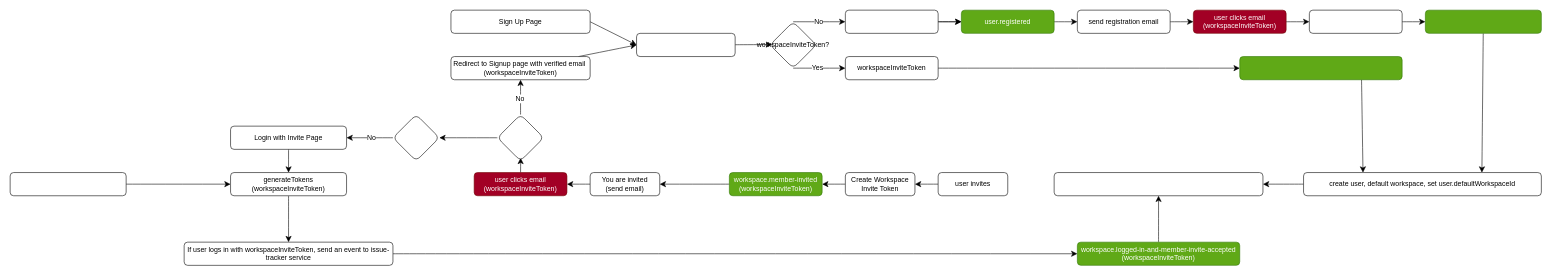
Some shapes in this 1552 by 276 pixel diagram are drawn without their labels. Here are the shapes that lost their labels. From the top down, the centre of each, then its label:
At (x=891, y=21): "Email Verification Token".
At (x=1355, y=21): "verify token, set status = Used".
At (x=1483, y=21): "user.email-verified".
At (x=685, y=45): "registerUser (workspaceInviteToken)".
At (x=1320, y=68): "user.registered-and-workspace-invite-accpeted (workspaceInviteToken)".
At (x=415, y=137): "Logged In?".
At (x=520, y=137): "Account? with this email".
At (x=68, y=184): "Login Page".
At (x=1158, y=184): "Verify workspace token & Add member to workspace".
